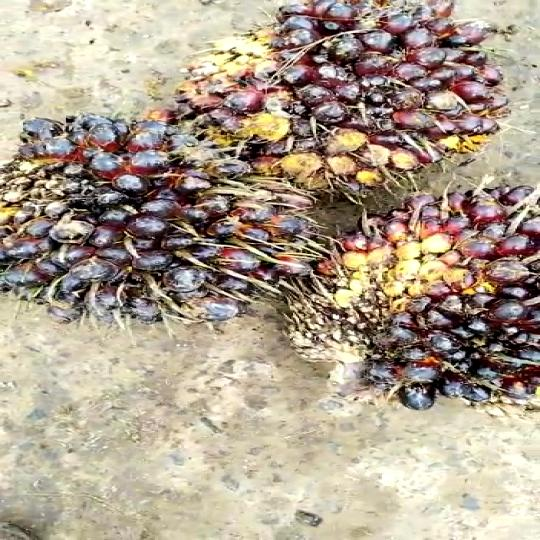mentah: (176, 0, 540, 199), (0, 112, 316, 336), (282, 170, 540, 425)
